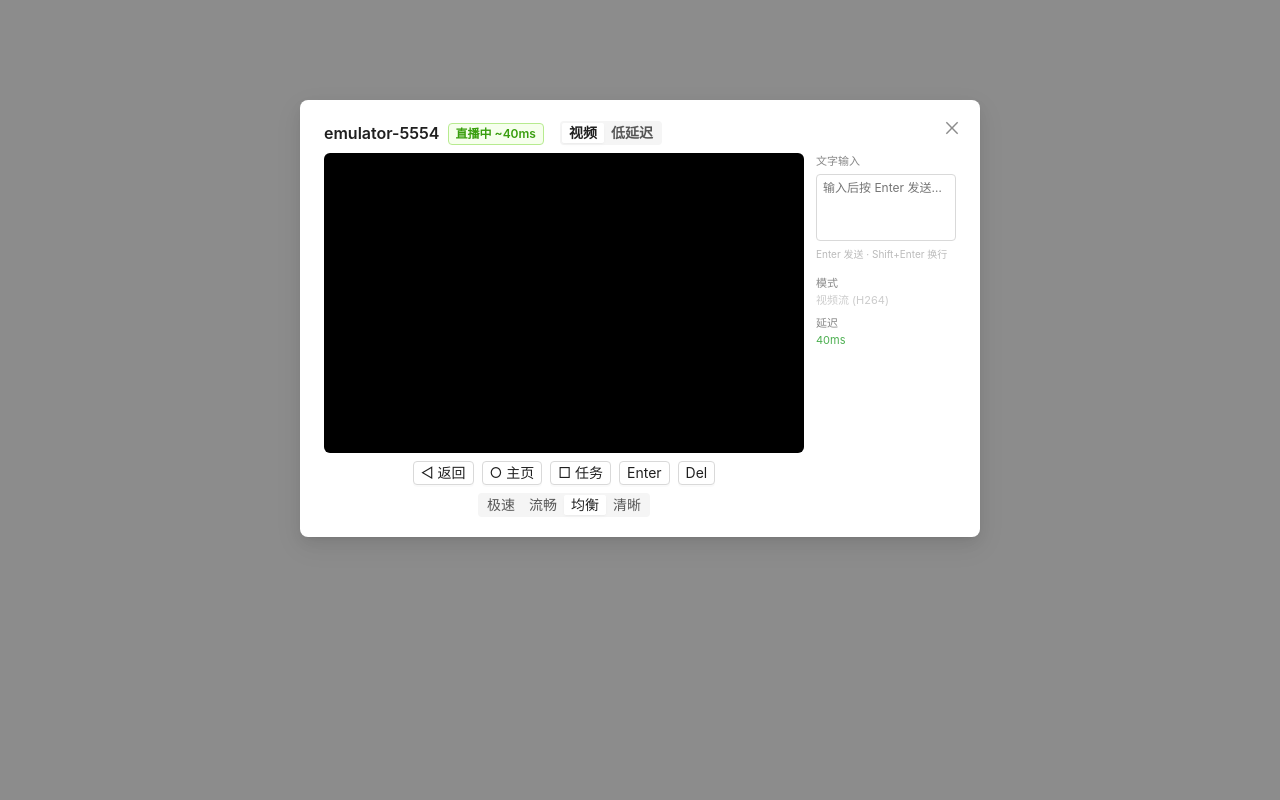
it: shows an error toast instead of silently dropping input when the device is unreachable
Click the button "◁ 返回" at (443, 473), box [413, 461, 474, 485]
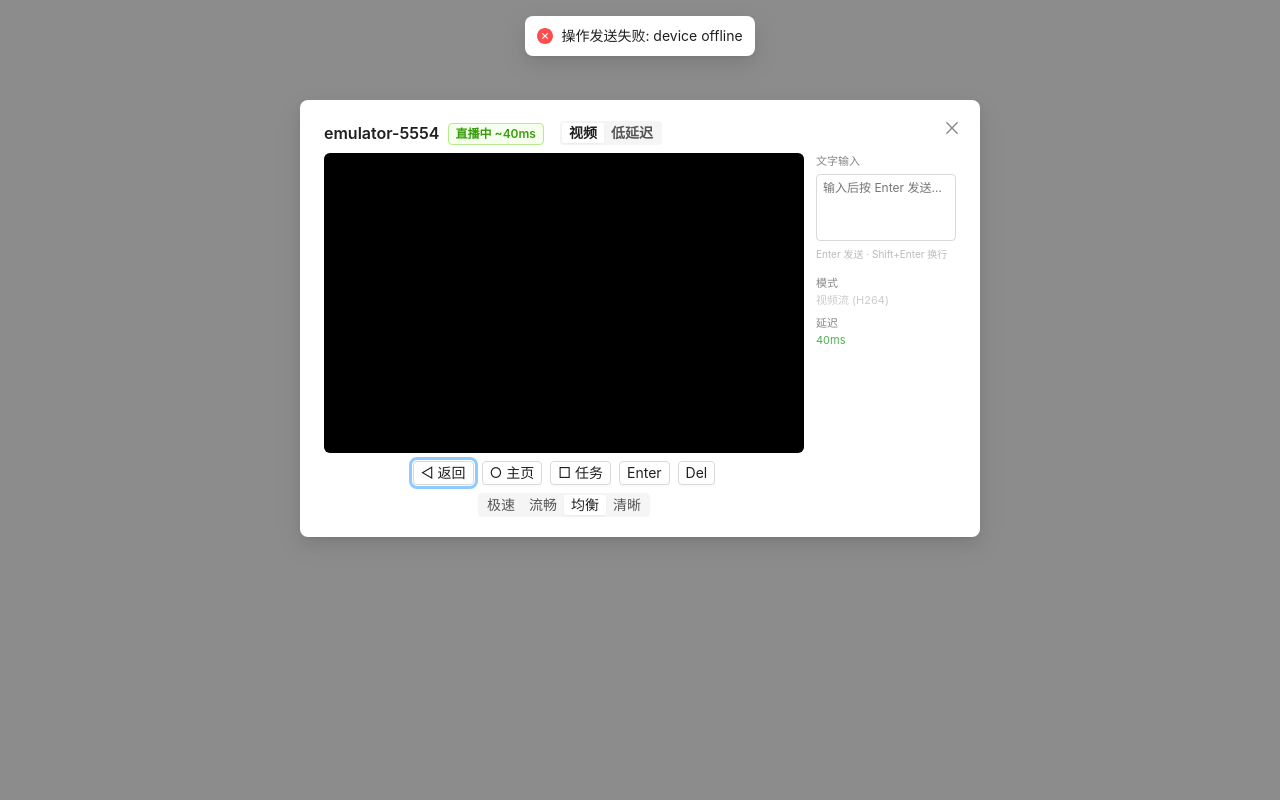
Expected: the text "操作发送失败: device offline" is shown, [561, 25, 743, 47]
